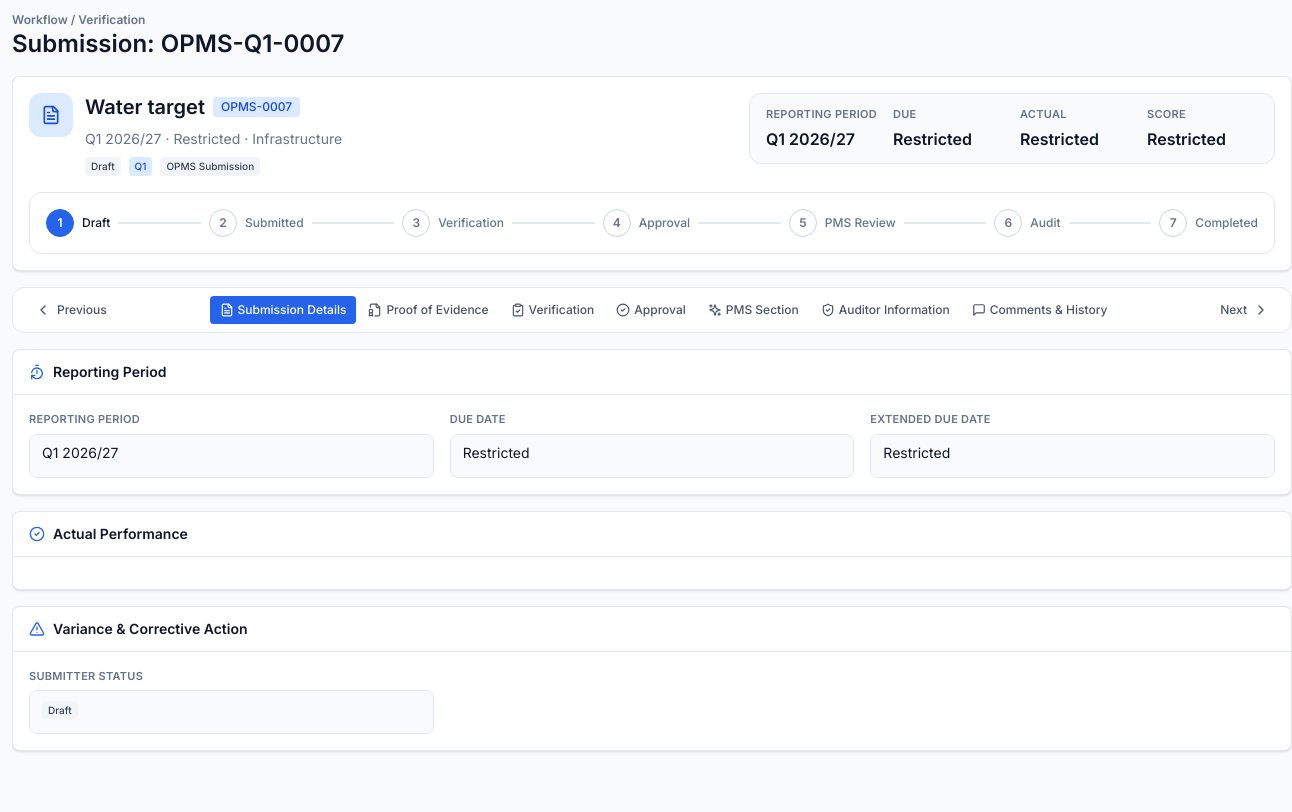
Test: SubmissionWorkspace member security › does not render nested POE governance secrets supplied by a hostile API payload
The width and height of the screenshot is (1292, 812).
Step 1. Click the tab "Proof of Evidence" → x=428, y=310, box 358,296 -> 499,324
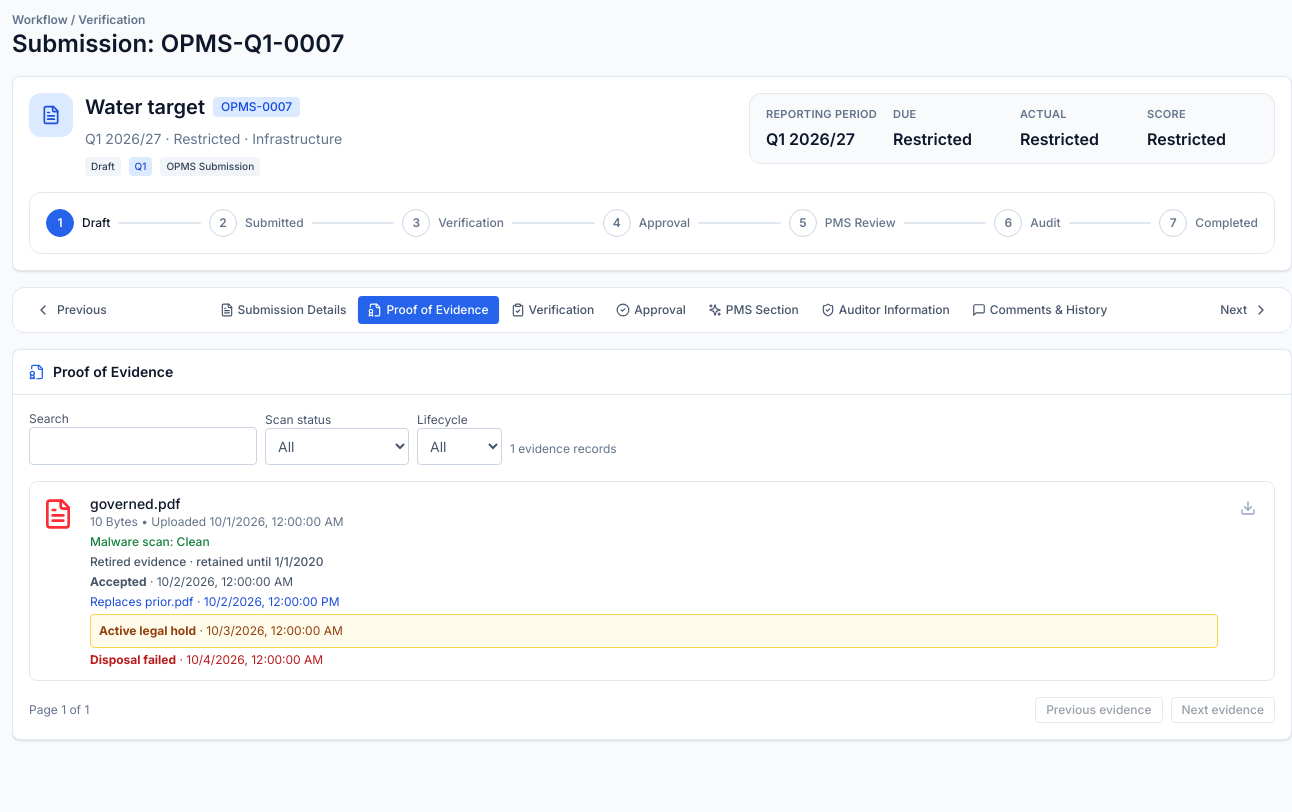
Now the text "governed.pdf" is shown, box 90,495 -> 181,512
